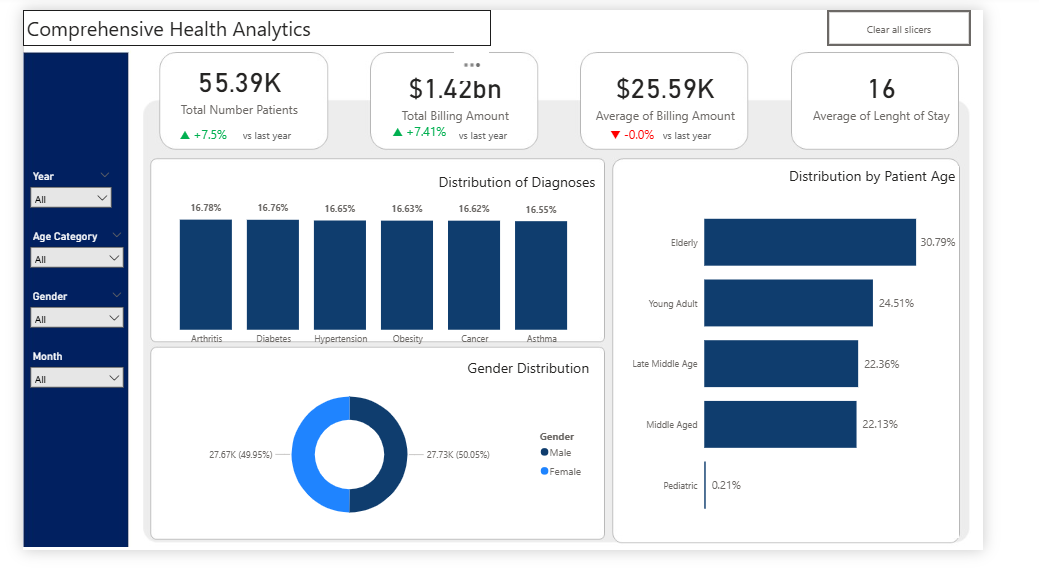

Layout of this report page (visuals, bound fields, positions):
{"tool":"powerbi","page":{"name":"Patient Overview","canvas":[1280,720],"ordinal":0},"visuals":[{"type":"donutChart","title":"Gender Distribution ","fields":{"Category":["healthcare_dataset.Gender"],"Y":["CountNonNull(healthcare_dataset.Gender)"]},"box":[176,464,576,224],"z":0},{"type":"lineClusteredColumnComboChart","title":"Distribution of Diagnoses ","fields":{"Category":["healthcare_dataset.Medical Condition"],"Y":["Divide(CountNonNull(healthcare_dataset.Full Name), ScopedEval(CountNonNull(healthcare_dataset.Full Name), []))"]},"box":[176,208,608,240],"z":1000},{"type":"barChart","title":"Distribution by Patient Age ","fields":{"Category":["healthcare_dataset.Age Category"],"Y":["CountNonNull(healthcare_dataset.Age Category)"]},"box":[800,208,448,496],"z":2000},{"type":"card","fields":{"Values":["CountNonNull(healthcare_dataset.Index)"]},"box":[192,64,192,80],"z":3000},{"type":"card","fields":{"Values":["Sum(healthcare_dataset.Billing Amount)"]},"box":[480,64,192,96],"z":4000},{"type":"card","fields":{"Values":["Avg(healthcare_dataset.Lenght of Stay)"]},"box":[1040,64,208,96],"z":5000},{"type":"card","fields":{"Values":["Avg(healthcare_dataset.Billing Amount)"]},"box":[752,64,208,96],"z":6000},{"type":"slicer","fields":{"Values":["healthcare_dataset.Age Category"]},"box":[0,288,144,80],"z":7000},{"type":"slicer","fields":{"Values":["healthcare_dataset.Gender"]},"box":[0,368,144,80],"z":8000},{"type":"slicer","fields":{"Values":["Date.Year"]},"box":[0,208,128,64],"z":9000},{"type":"slicer","fields":{"Values":["Date.Month"]},"box":[0,448,144,80],"z":10000},{"type":"actionButton","box":[1072,0,192,48],"z":11000},{"type":"textbox","box":[0,0,624,48],"z":12000},{"type":"textbox","box":[288,152,96,32],"z":13000},{"type":"textbox","box":[576,152,96,32],"z":14000},{"type":"textbox","box":[848,152,96,32],"z":15000},{"type":"card","fields":{"Values":["Date.Total Patient KPI"]},"box":[192,144,96,48],"z":16000},{"type":"card","fields":{"Values":["Date.Billing KPI Icon"]},"box":[480,144,96,40],"z":17000},{"type":"card","fields":{"Values":["Date.Average Billing KPI Icon"]},"box":[768,144,88,48],"z":18000}]}

Visuals, with their boxes in screenshot pixels (x1, y1, x2, y2), scaled from the page's 1280x720 canvas onto the 1039x578 screenshot:
"Gender Distribution " donutChart: [left=143, top=372, right=610, bottom=552]
"Distribution of Diagnoses " lineClusteredColumnComboChart: [left=143, top=167, right=636, bottom=360]
"Distribution by Patient Age " barChart: [left=649, top=167, right=1013, bottom=565]
card - CountNonNull(healthcare_dataset.Index): [left=156, top=51, right=312, bottom=116]
card - Sum(healthcare_dataset.Billing Amount): [left=390, top=51, right=545, bottom=128]
card - Avg(healthcare_dataset.Lenght of Stay): [left=844, top=51, right=1013, bottom=128]
card - Avg(healthcare_dataset.Billing Amount): [left=610, top=51, right=779, bottom=128]
slicer - healthcare_dataset.Age Category: [left=0, top=231, right=117, bottom=295]
slicer - healthcare_dataset.Gender: [left=0, top=295, right=117, bottom=360]
slicer - Date.Year: [left=0, top=167, right=104, bottom=218]
slicer - Date.Month: [left=0, top=360, right=117, bottom=424]
actionButton: [left=870, top=0, right=1026, bottom=39]
textbox: [left=0, top=0, right=507, bottom=39]
textbox: [left=234, top=122, right=312, bottom=148]
textbox: [left=468, top=122, right=545, bottom=148]
textbox: [left=688, top=122, right=766, bottom=148]
card - Date.Total Patient KPI: [left=156, top=116, right=234, bottom=154]
card - Date.Billing KPI Icon: [left=390, top=116, right=468, bottom=148]
card - Date.Average Billing KPI Icon: [left=623, top=116, right=695, bottom=154]
